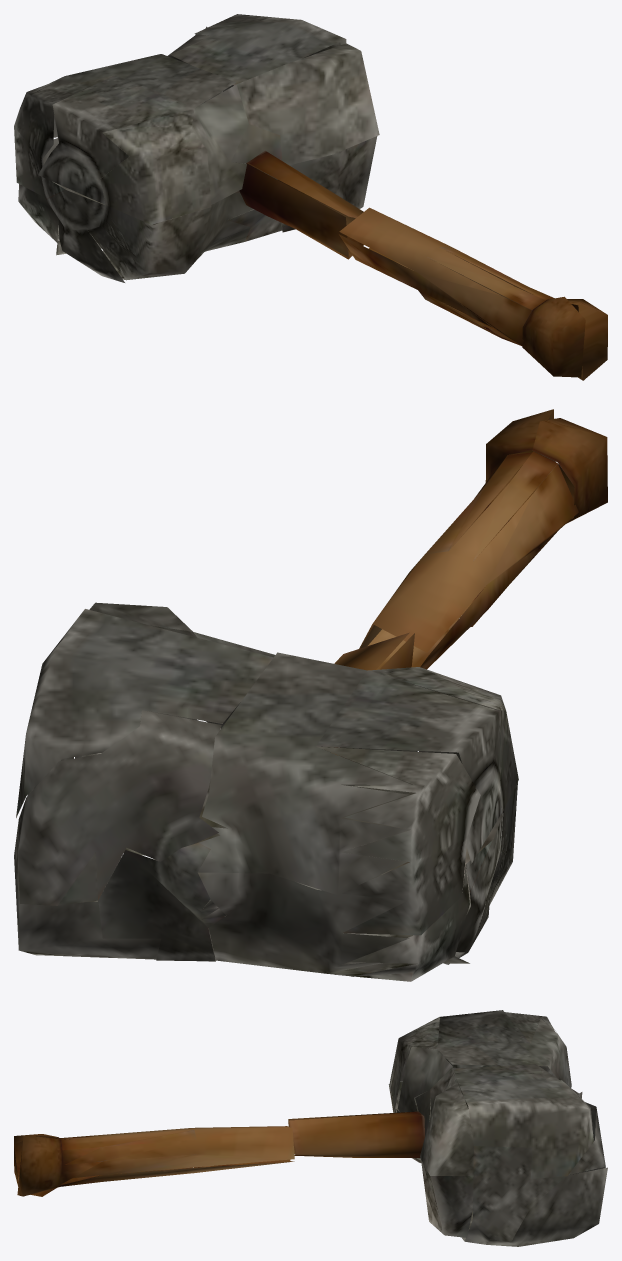
File: maul_lod1.fbx
3 views of the same model, one above another, from view 1: azimuth 30°, elevation 25°; view 2: azimuth 150°, elevation 25°; view 3: azimuth 270°, elevation 25° (orthographic). The views are drawn at different scales.
Visible parts, largest first — view 1: tripo_node_4ce12cba-55ad-43c1-95ef-405505cdf53c; view 2: tripo_node_4ce12cba-55ad-43c1-95ef-405505cdf53c; view 3: tripo_node_4ce12cba-55ad-43c1-95ef-405505cdf53c.
Boxes of the visible parts, <box> form: tripo_node_4ce12cba-55ad-43c1-95ef-405505cdf53c: <box>14,14,607,380</box>; tripo_node_4ce12cba-55ad-43c1-95ef-405505cdf53c: <box>14,409,607,981</box>; tripo_node_4ce12cba-55ad-43c1-95ef-405505cdf53c: <box>14,1010,607,1246</box>.
Bounding box in the file's own units: 0.6953 × 0.4016 × 1.5.
